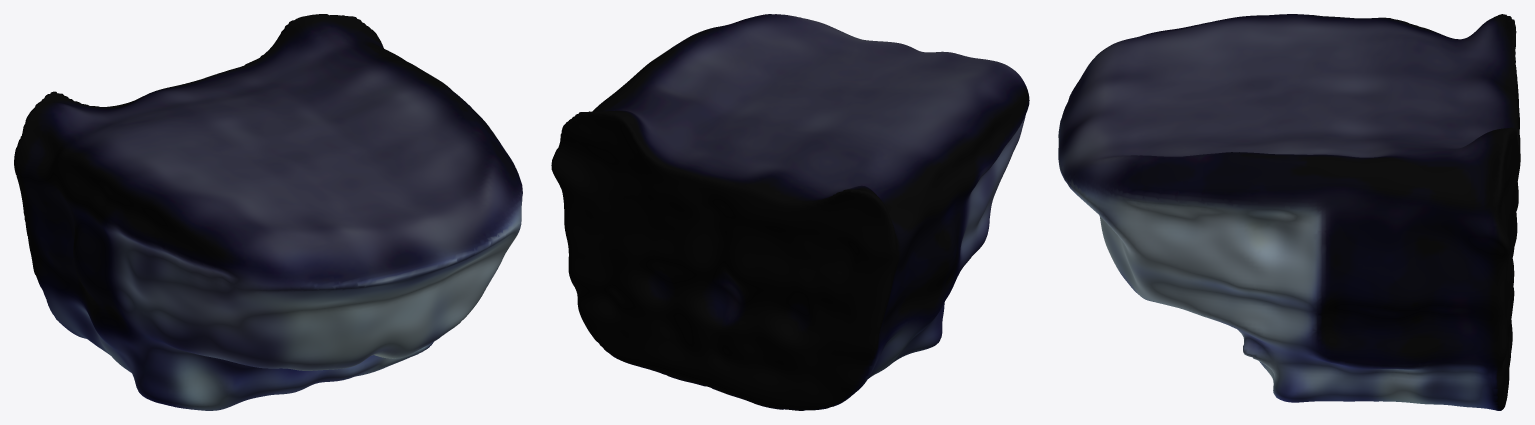
Rendered from backpack.glb.
3 views of the same model, side by side, from view 1: azimuth 30°, elevation 25°; view 2: azimuth 150°, elevation 25°; view 3: azimuth 270°, elevation 25° (orthographic). The views are drawn at different scales.
Bounding box in the file's own units: 0.9632 × 0.6909 × 0.9996.
